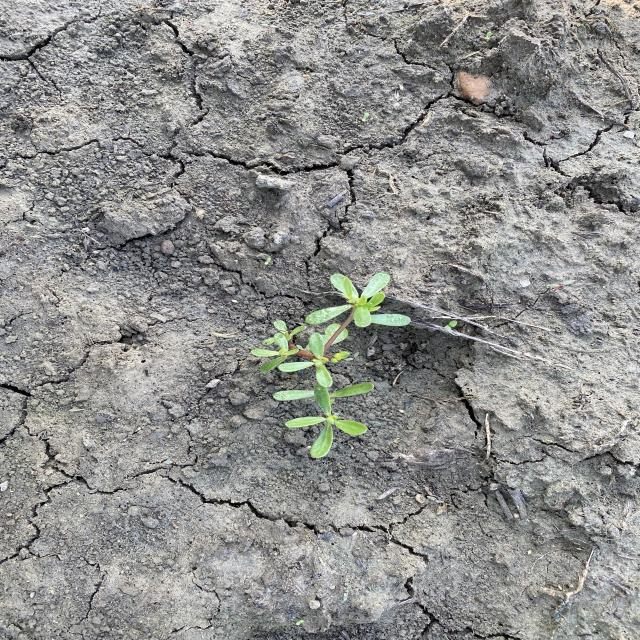Purslane: (248, 271, 413, 459)
